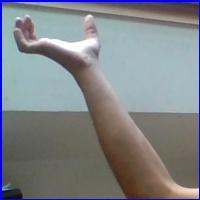space: (10, 10, 109, 77)
